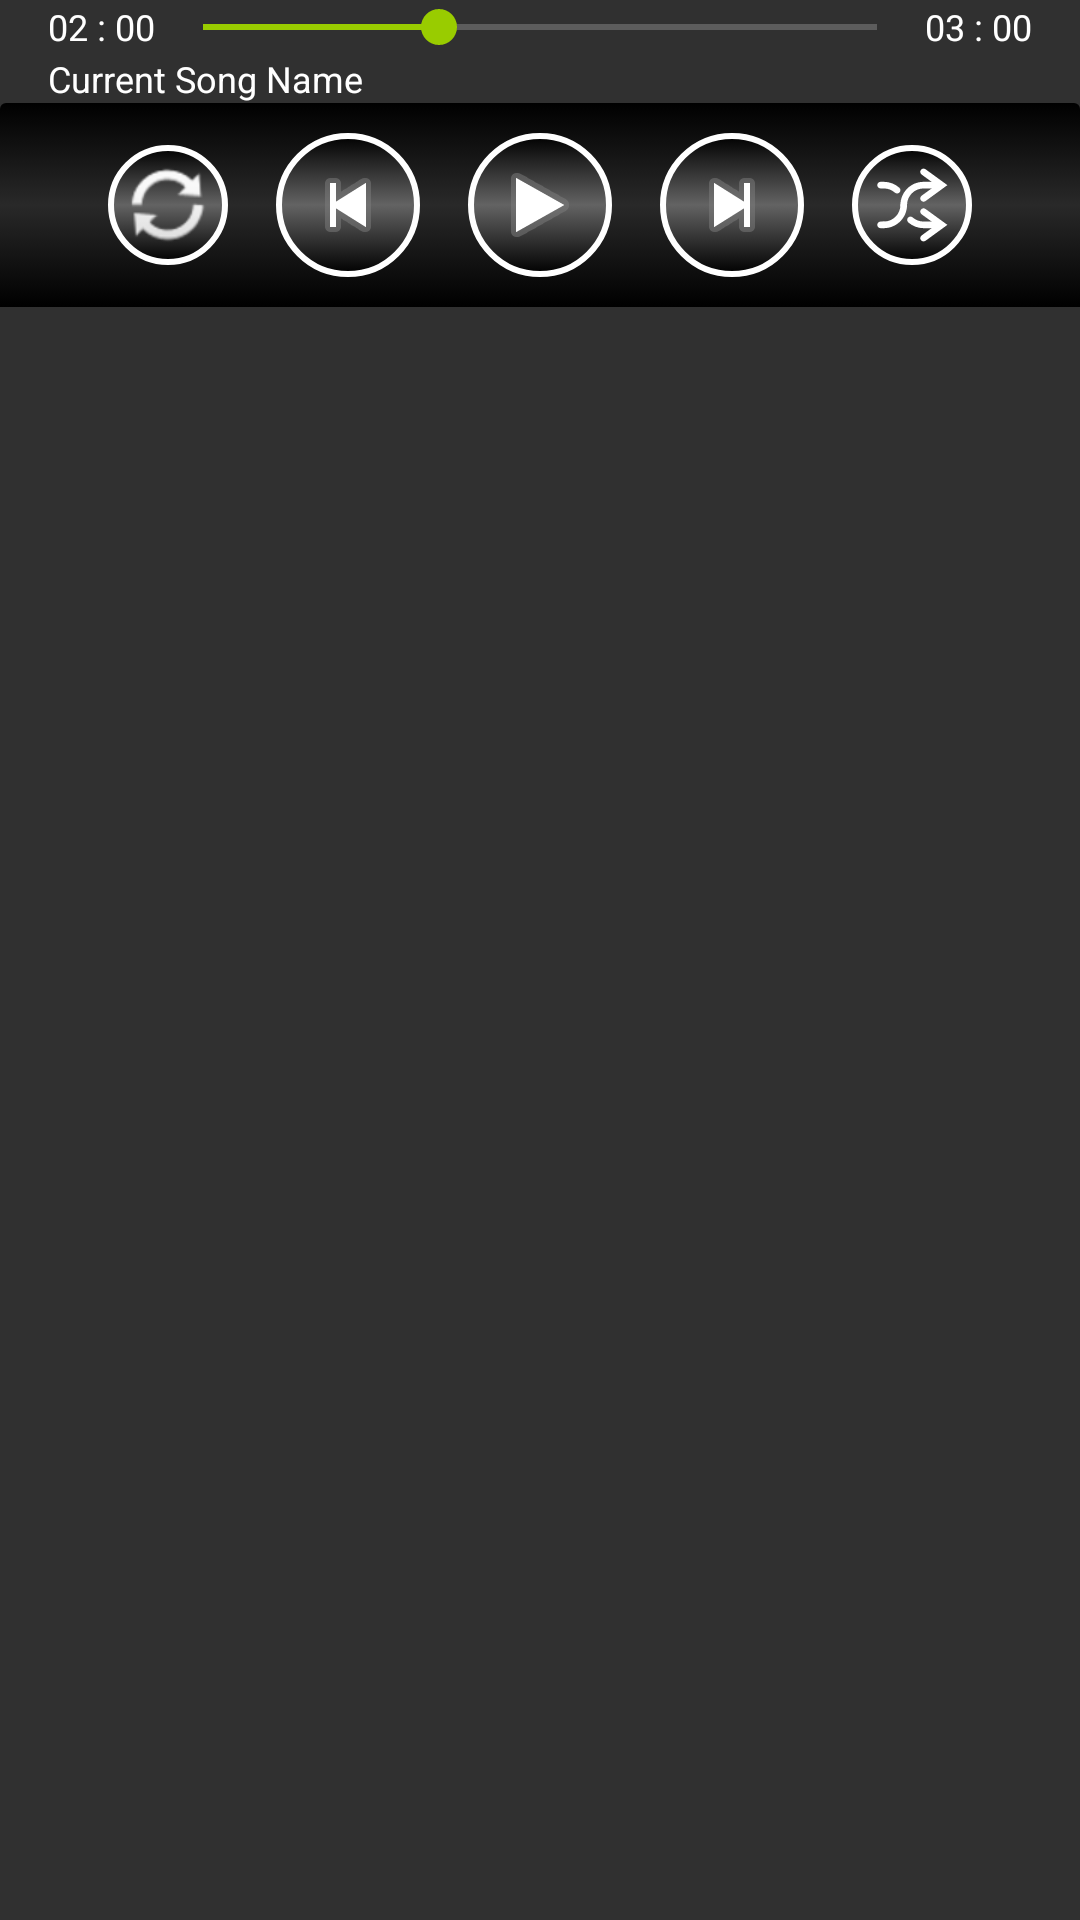

Where to tap for icons on this 1080 × 1920 app screen, as [x,y]:
next: [732,205]
play: [540,205]
popup sync: [168,205]
previous: [348,205]
shuffle: [912,205]
